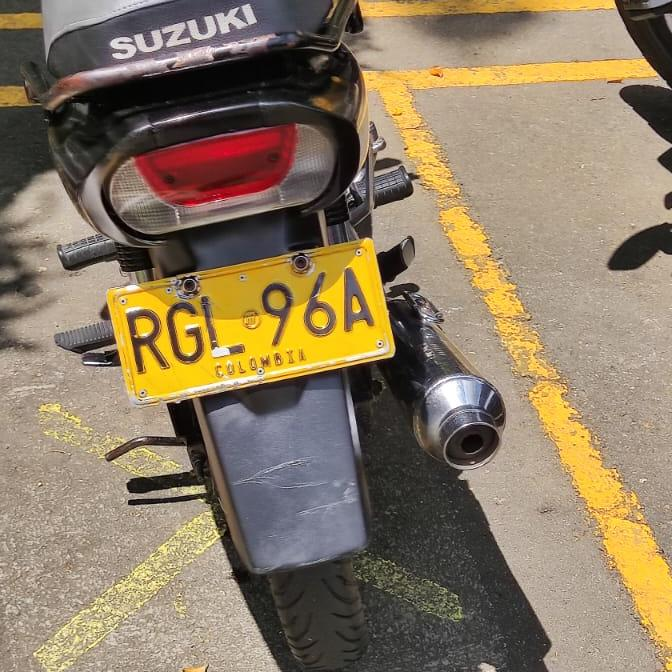plates: (110, 241, 393, 410)
